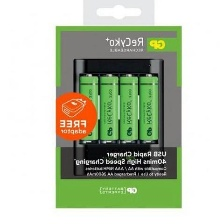battery: (137, 73, 159, 144), (98, 72, 120, 141), (79, 72, 99, 143), (119, 72, 139, 142)
